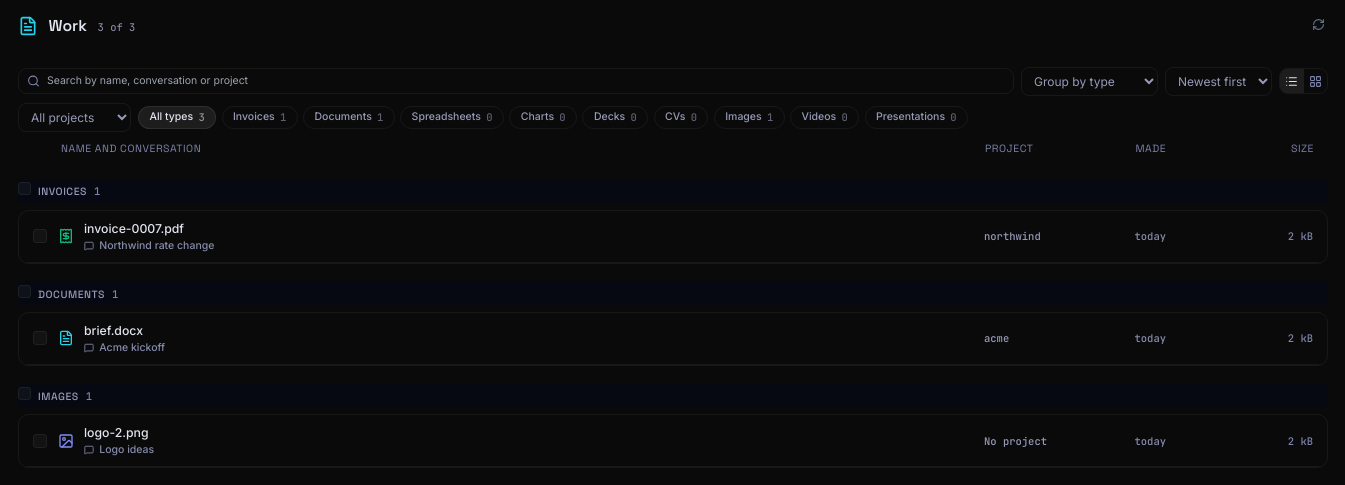
Scenario: it is not a file browser › finds a file by the conversation that made it
This screenshot has width=1345, height=485.
Expected: the text "invoice-0007.pdf" is shown, x1=84 y1=220 x2=184 y2=236
Type "northwind" into the search field labelled "Search by name, conversation or project" at point(516, 81), box x1=18 y1=68 x2=1014 y2=94
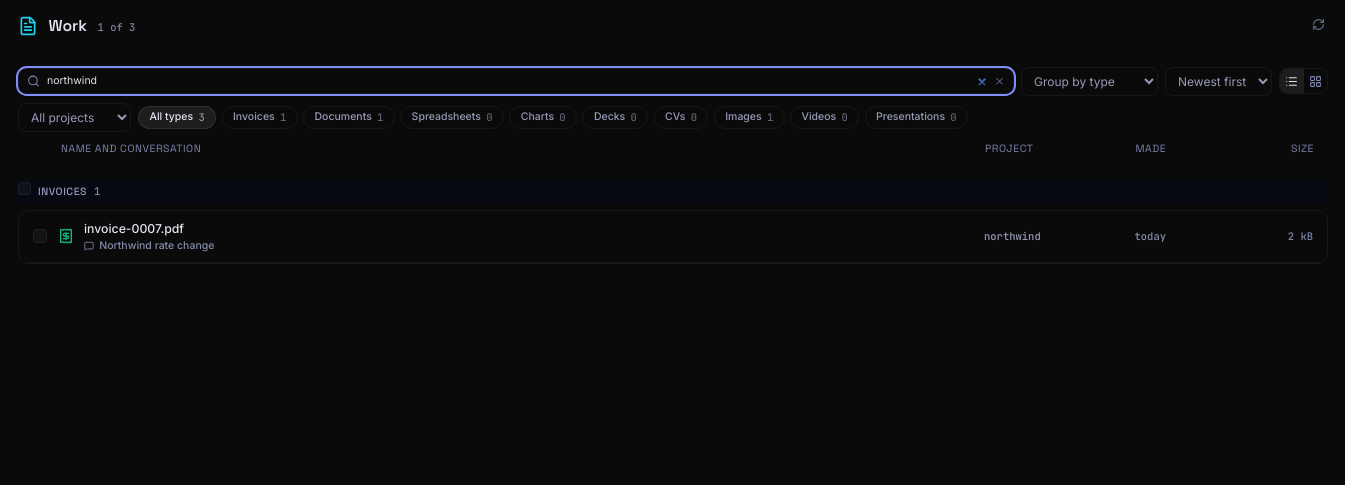
Expected: the text "invoice-0007.pdf" is shown, x1=84 y1=220 x2=184 y2=236
Result: the button "brief.docx" is gone
